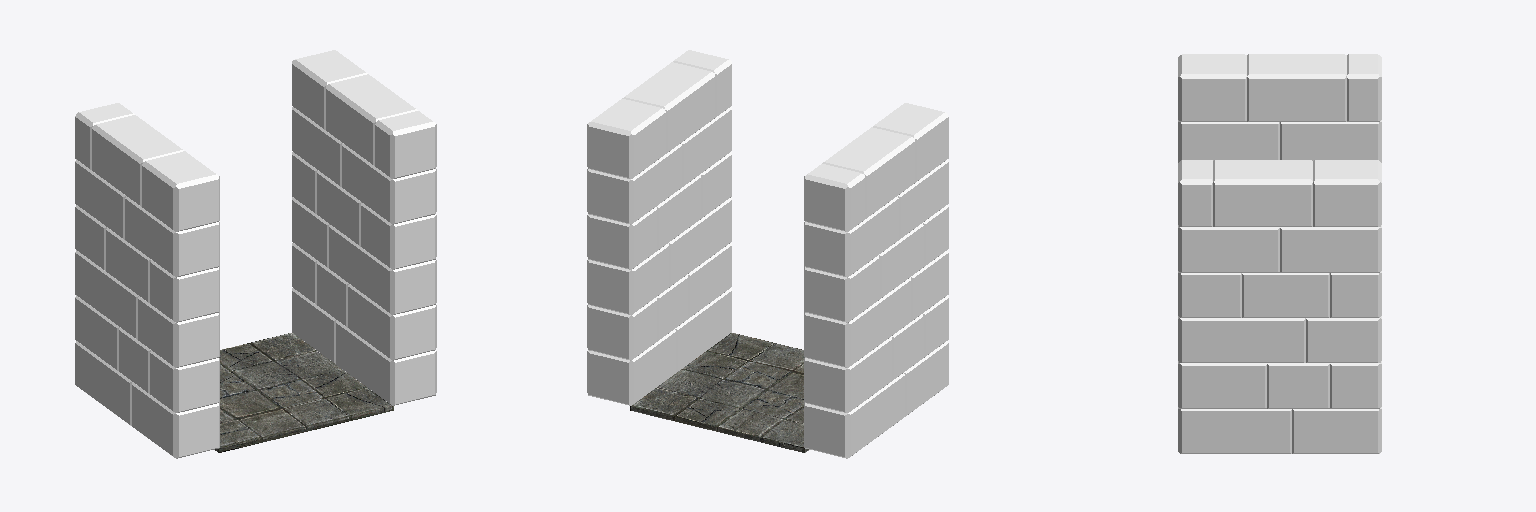
The picture shows the model from 3 angles: view 1: azimuth 30°, elevation 25°; view 2: azimuth 150°, elevation 25°; view 3: azimuth 270°, elevation 25°; orthographic projection.
Parts seen in each view (by area): view 1: Box3456, Box3455, Box026; view 2: Box3456, Box3455, Box026; view 3: Box3455, Box3456.
Boxes of the visible parts, x1,y1,x2,y2 form: Box3456: [75, 103, 219, 458]; Box3455: [292, 50, 436, 405]; Box026: [215, 333, 393, 452]; Box3456: [804, 103, 948, 458]; Box3455: [587, 50, 731, 405]; Box026: [630, 333, 808, 452]; Box3455: [1178, 160, 1381, 453]; Box3456: [1178, 54, 1381, 162].
Bounding box in the file's own units: 3.04 × 3.07 × 2.04.
2 materials, 1 textured.